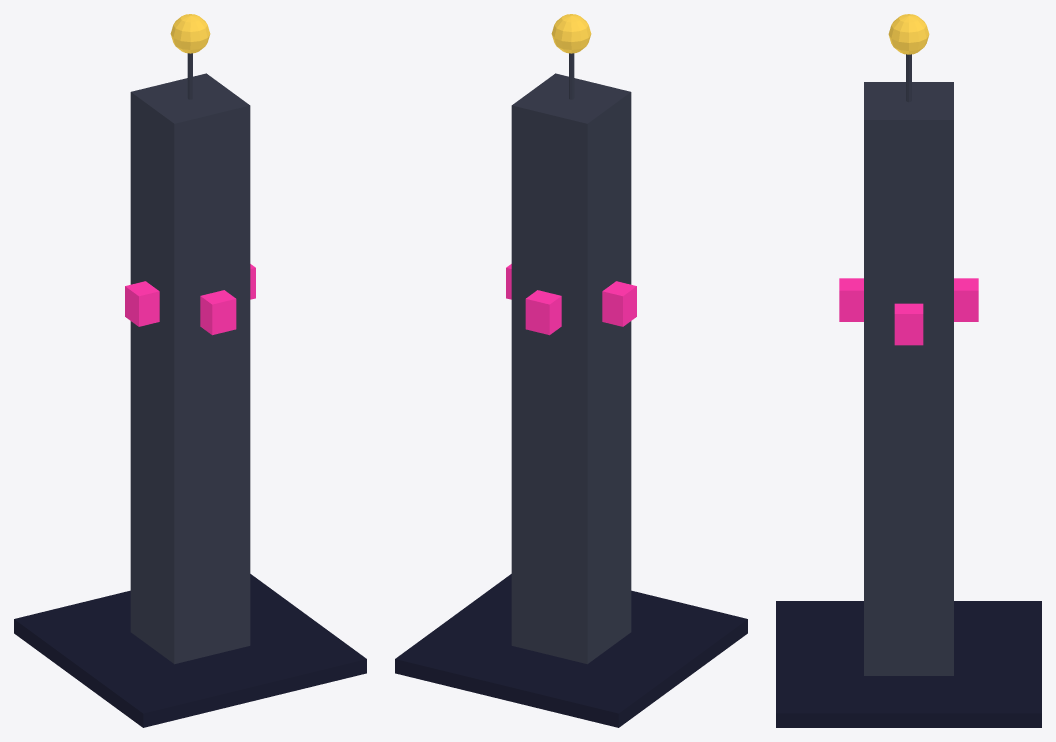
File: launch-tower-transformed.glb
3 renders of one model, left to right at view 1: azimuth 30°, elevation 25°; view 2: azimuth 150°, elevation 25°; view 3: azimuth 270°, elevation 25°, orthographic. The views are drawn at different scales.
Visible parts, largest first — view 1: park_metal, park_dark, park_neon_magenta, park_neon_yellow; view 2: park_metal, park_dark, park_neon_magenta, park_neon_yellow; view 3: park_metal, park_dark, park_neon_magenta, park_neon_yellow.
Boxes of the visible parts, left/top/right/bottom form: park_metal: left=130, top=53, right=250, bottom=664; park_dark: left=14, top=574, right=366, bottom=727; park_neon_magenta: left=125, top=264, right=255, bottom=335; park_neon_yellow: left=170, top=14, right=210, bottom=53; park_metal: left=511, top=53, right=631, bottom=664; park_dark: left=395, top=574, right=747, bottom=727; park_neon_magenta: left=506, top=264, right=636, bottom=335; park_neon_yellow: left=551, top=14, right=591, bottom=53; park_metal: left=864, top=54, right=953, bottom=675; park_dark: left=776, top=601, right=1041, bottom=727; park_neon_magenta: left=839, top=278, right=978, bottom=345; park_neon_yellow: left=888, top=14, right=929, bottom=54.
Size of what is drawn, in the model's own units: 6.5 by 17.7 by 6.5.
